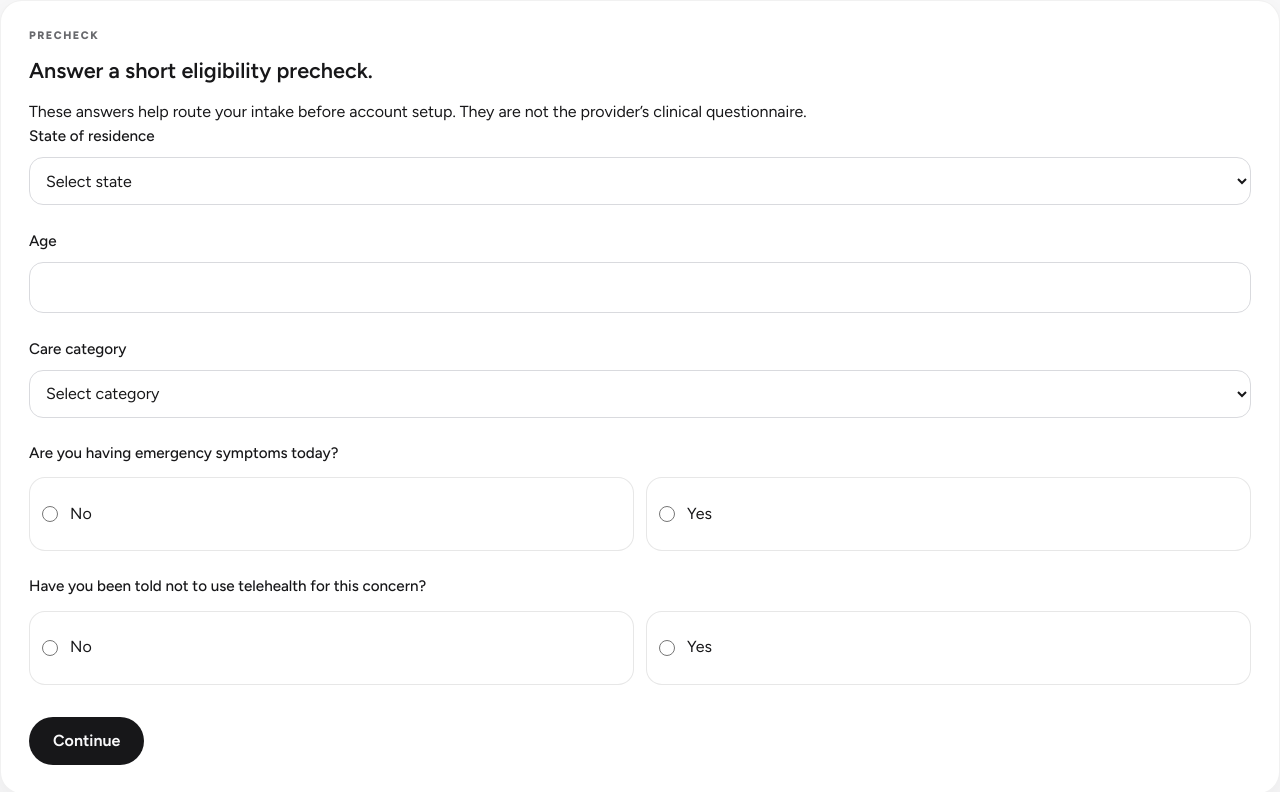
Test: intake page › shows clinician-review guidance for blocking_contraindication
Select "Illinois" in the dropdown labelled "State of residence": (640, 181) x1=29 y1=157 x2=1251 y2=205
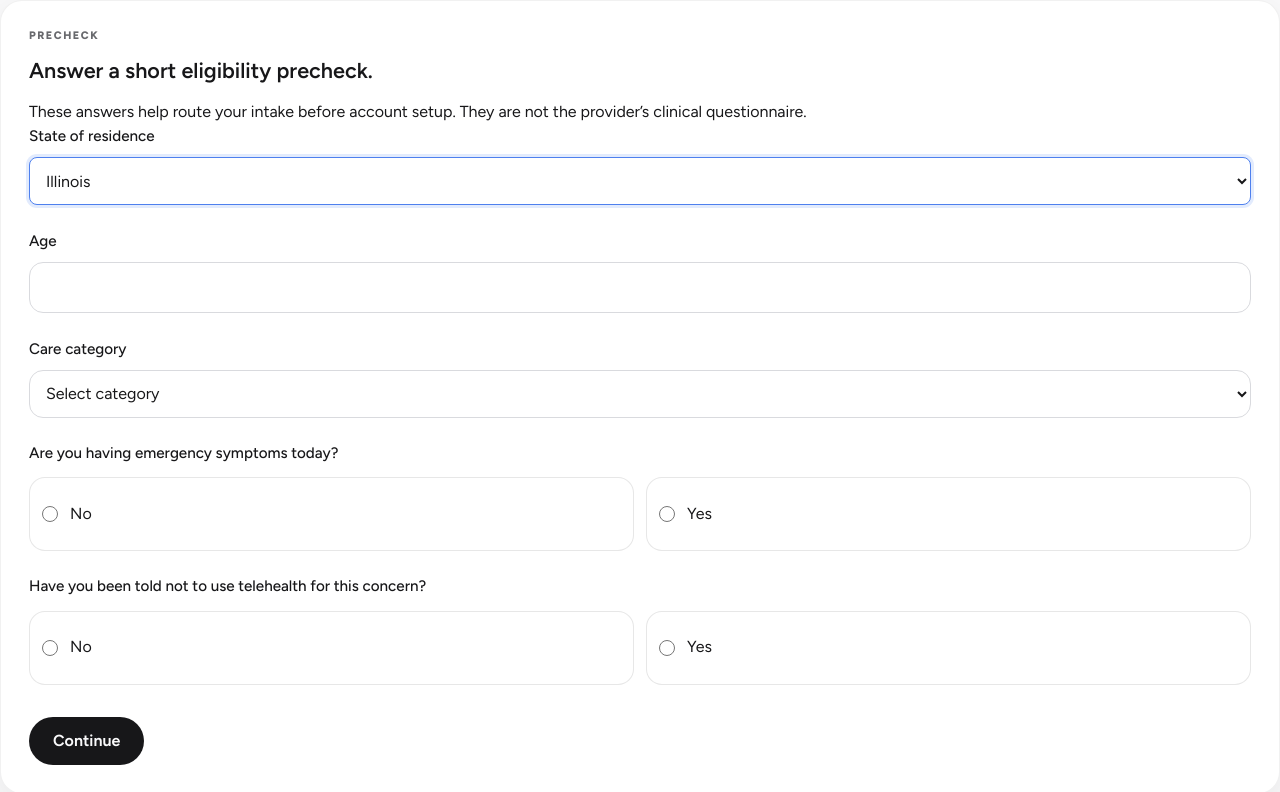
In the number field labelled "Age": (640, 287) x1=29 y1=262 x2=1251 y2=313, type "34"
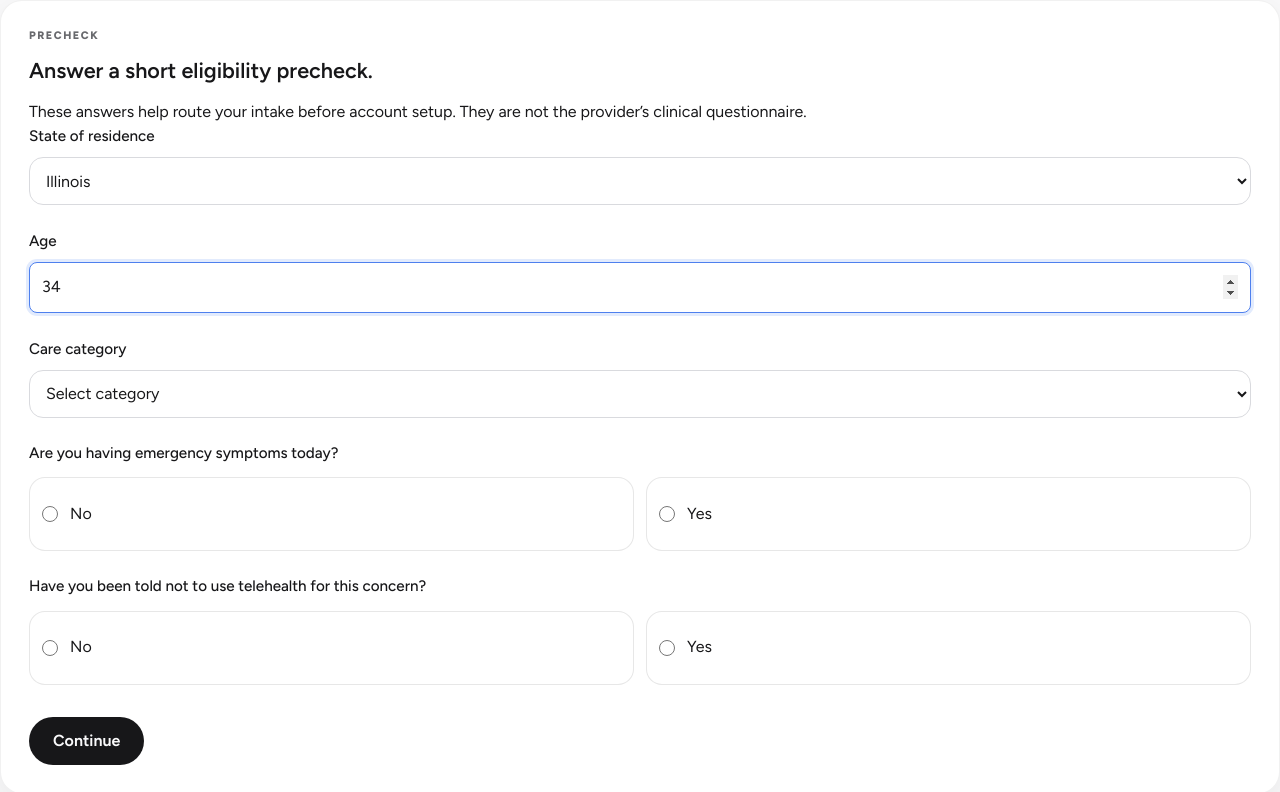
Select "Weight" in the dropdown labelled "Care category": (640, 394) x1=29 y1=370 x2=1251 y2=418
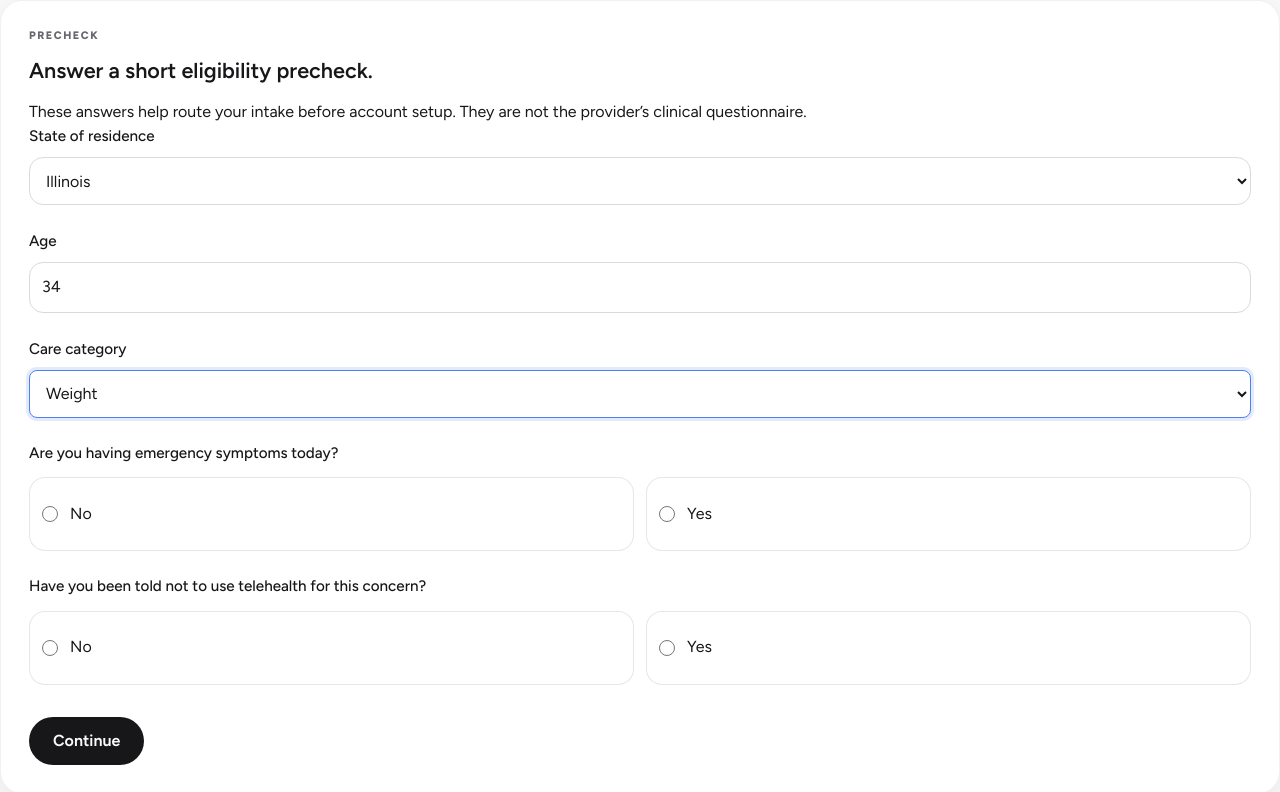
Click the 2nd radio button labelled "Yes": (667, 648) x1=659 y1=624 x2=675 y2=672
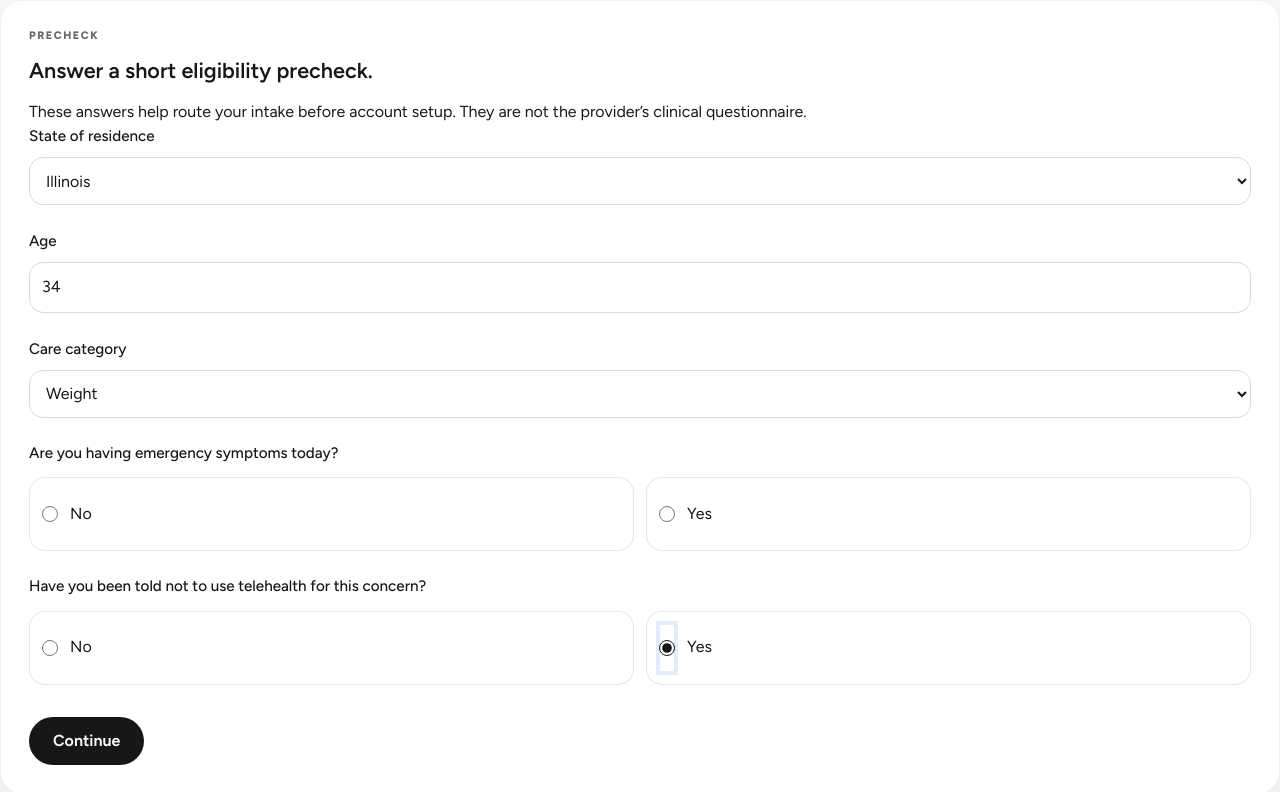
Click the radio button labelled "No" below "Are you having emergency symptoms today?": (50, 514) x1=42 y1=490 x2=58 y2=538
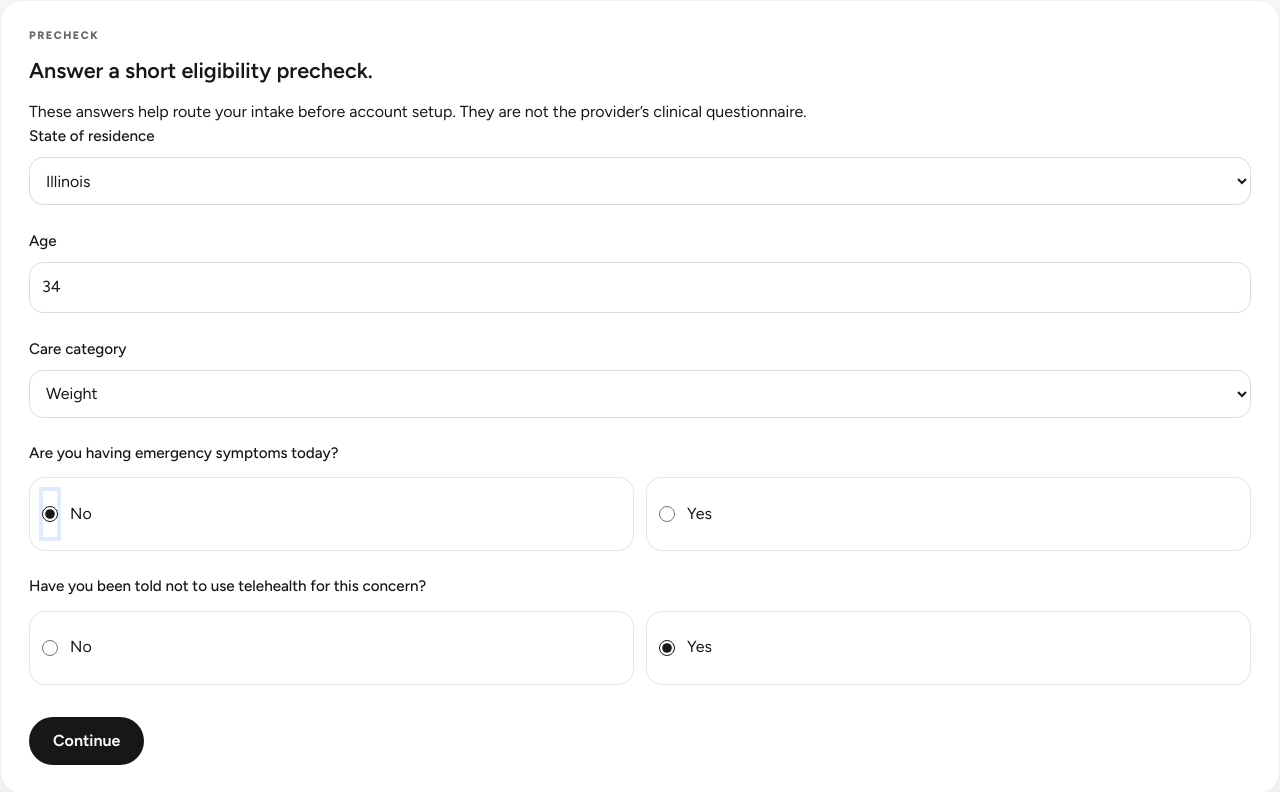
Click the button "Continue": (87, 741) x1=29 y1=717 x2=144 y2=765
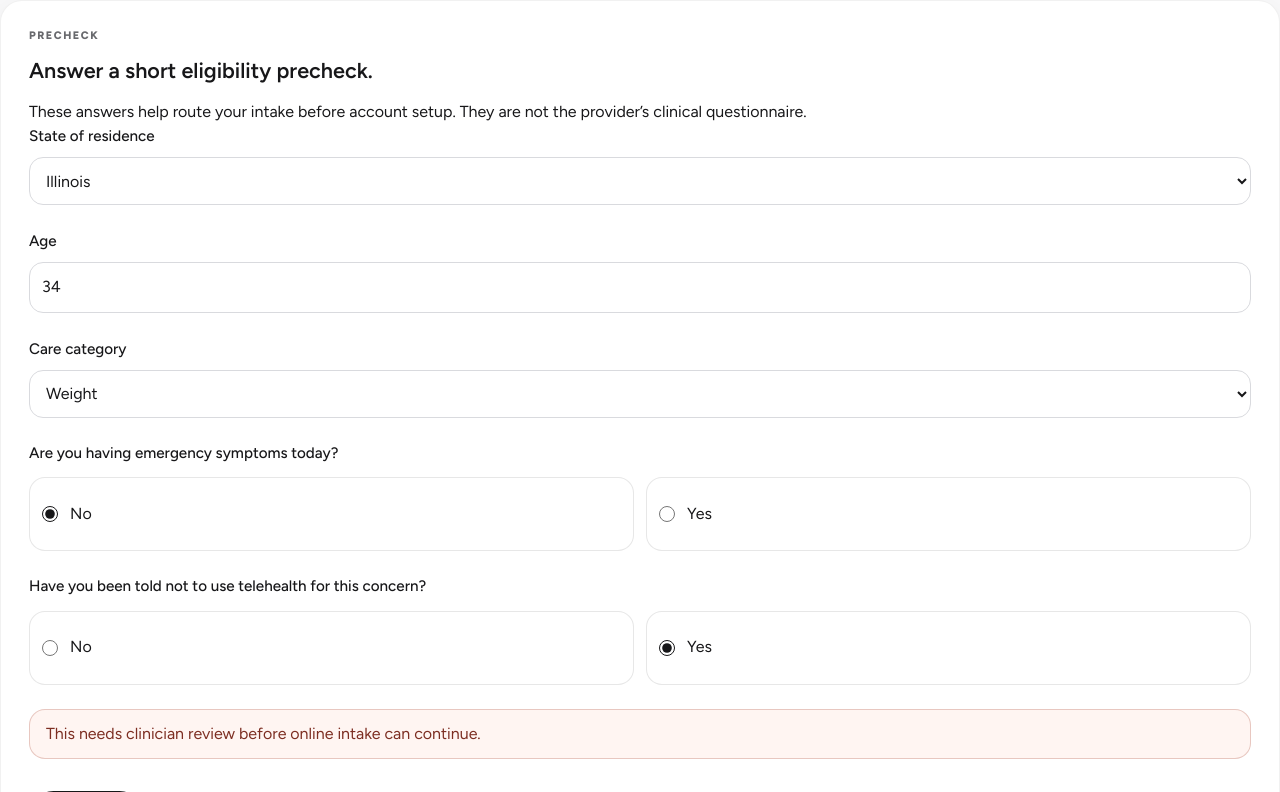
Check: the message shows "needs clinician review", box x1=46 y1=724 x2=481 y2=743
